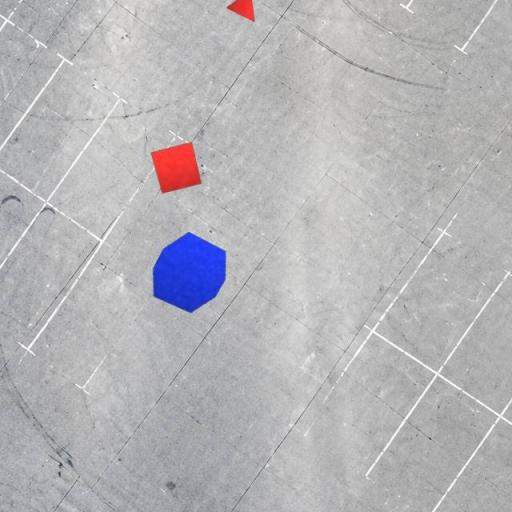RED_SQUARE: (150, 142, 202, 194)
